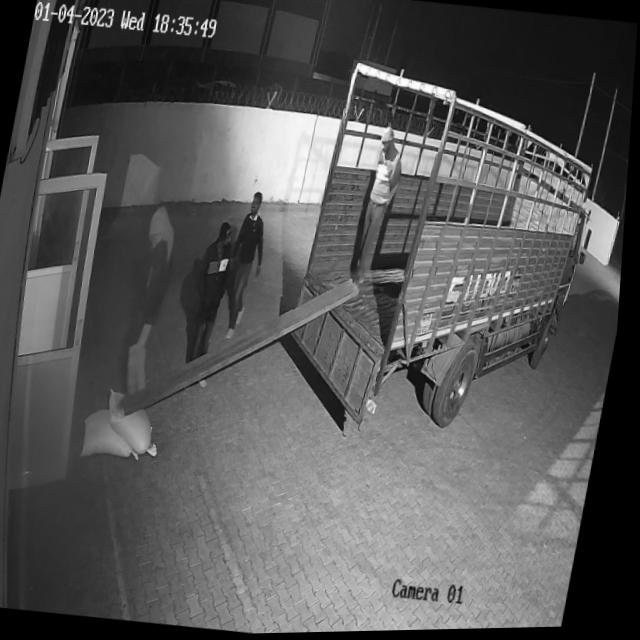sack: (103, 387, 173, 459), (83, 406, 152, 464)
